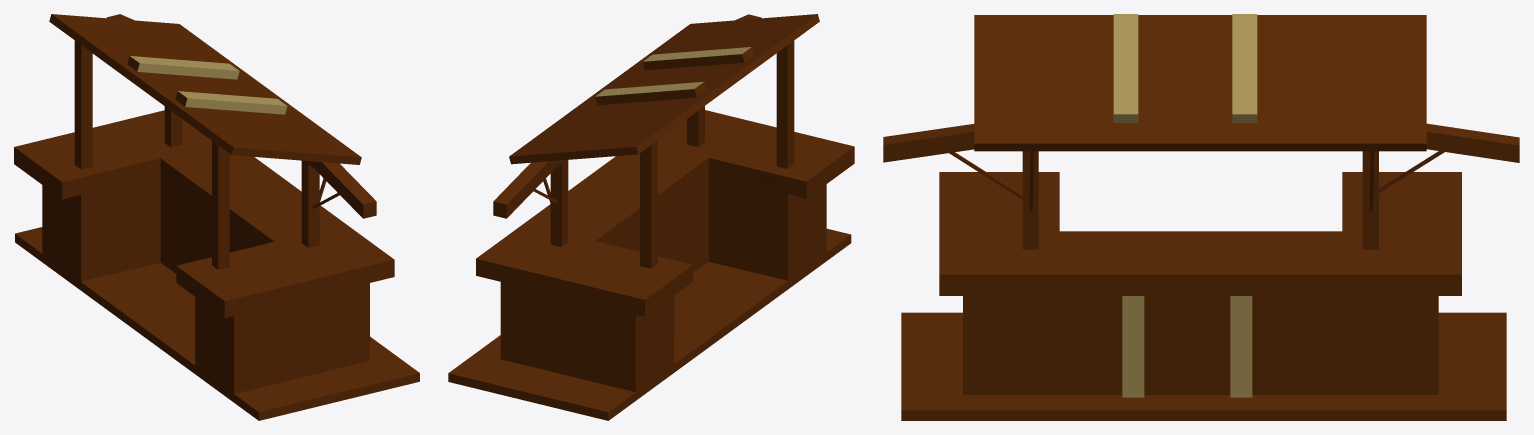
File: stall.fbx
The picture shows the model from 3 angles, left to right: view 1: azimuth 30°, elevation 25°; view 2: azimuth 150°, elevation 25°; view 3: azimuth 270°, elevation 25°; orthographic projection. The views are drawn at different scales.
Visible parts, largest first — view 1: Stall; view 2: Stall; view 3: Stall.
Boxes of the visible parts, x1,y1,x2,y2 form: Stall: (14, 14, 419, 420); Stall: (448, 14, 854, 420); Stall: (883, 14, 1519, 420).
Size of the model in its own units: 362 by 494 by 895.
